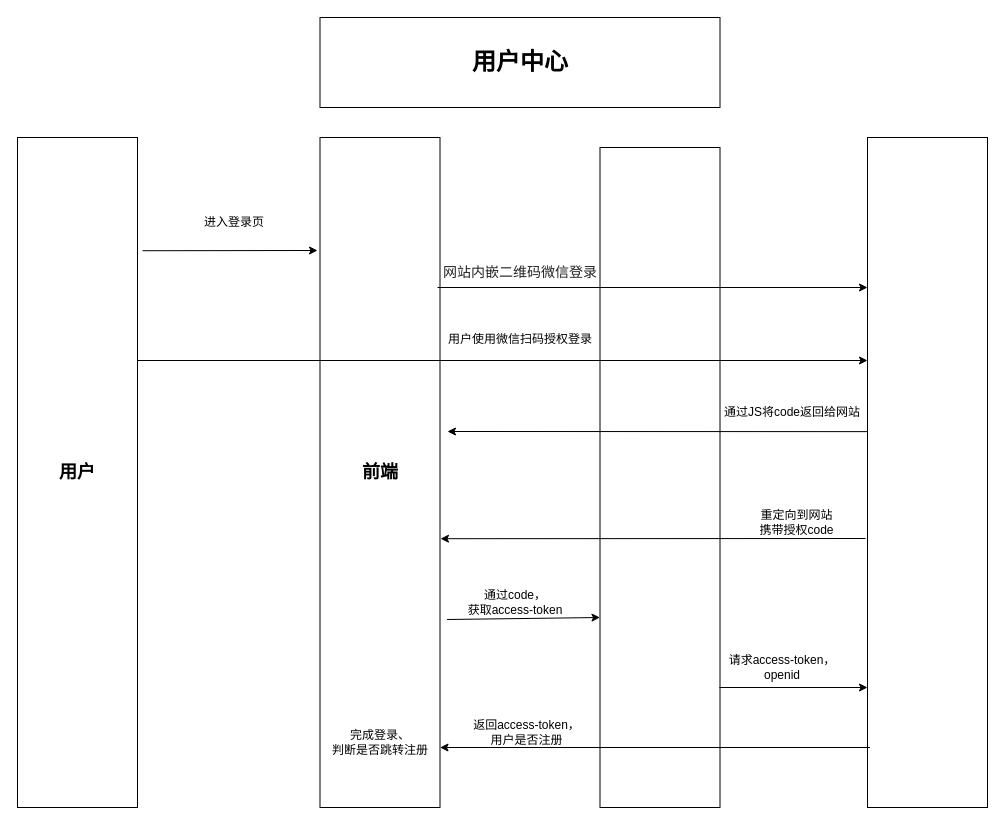
The diagram is 1005 pixels wide and 825 high, and some of its shapes have lost their labels. The centre of each missing label's shape, as x and y in pixels:
后端: the point at 659,477
微信开放平台: the point at 927,472
